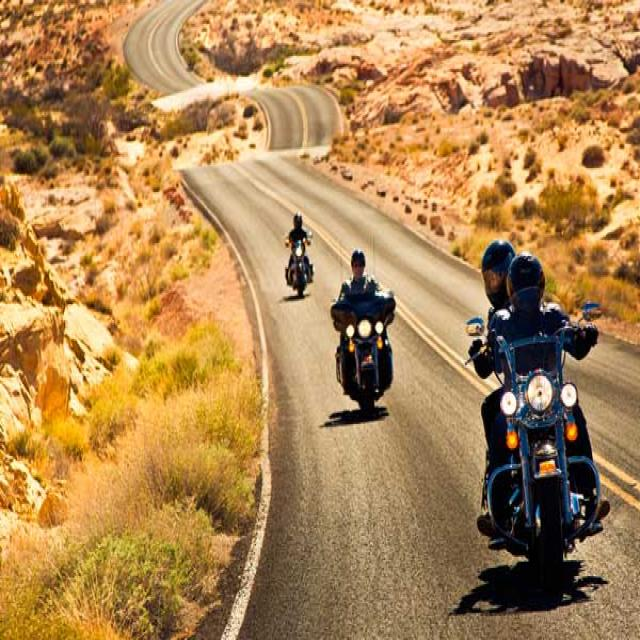MOTORCYCLE: (474, 184, 606, 616), (333, 272, 396, 412), (284, 230, 315, 294)
